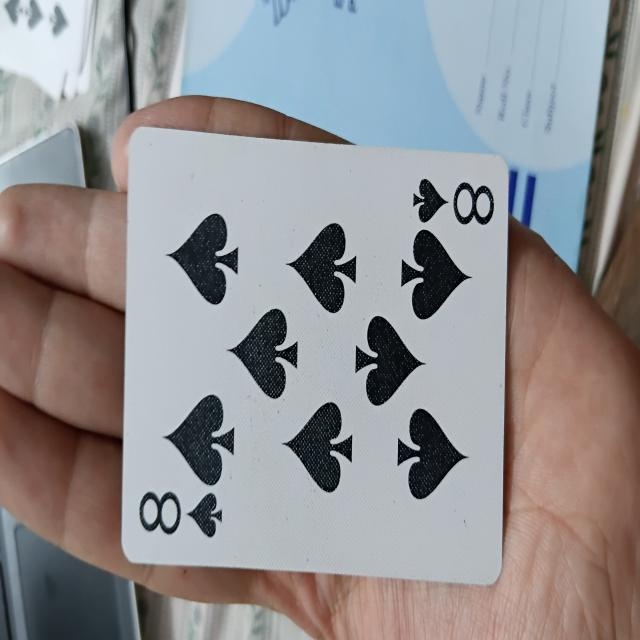8S: (125, 122, 508, 594)
